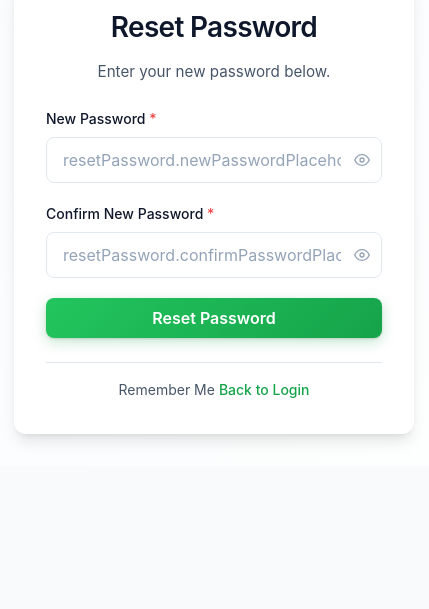
Scenario: ResetPasswordPage › error clearing › clears error when user starts typing
Click the button "Reset Password": (214, 318) [46,298,382,338]
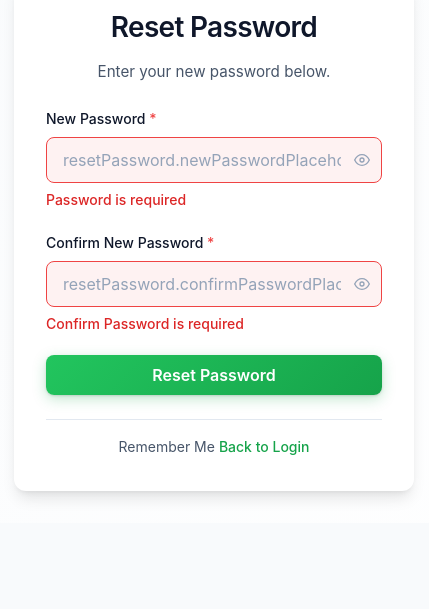
In the password field labelled "New Password": (214, 160) [46,137,382,183], type "P"
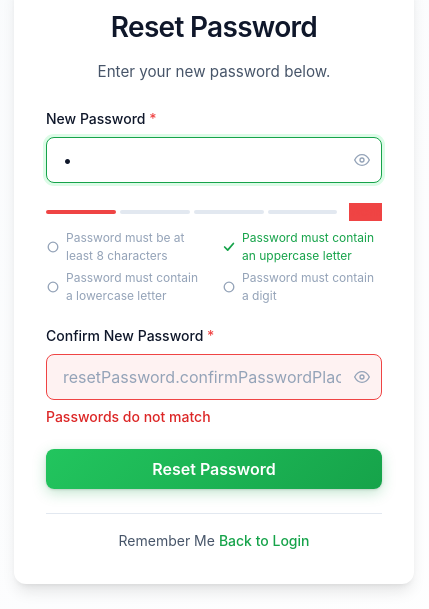
Now the text "Password is required" is gone
